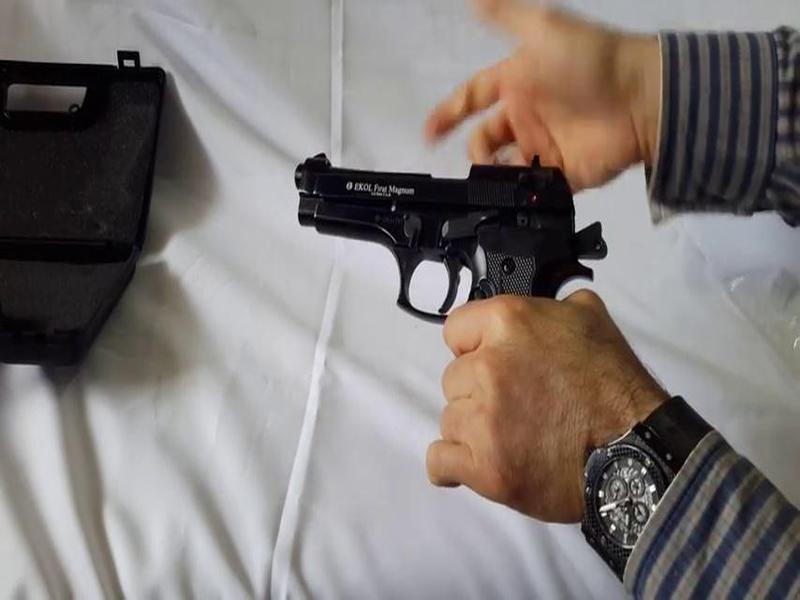Pistola: (278, 139, 627, 365)
